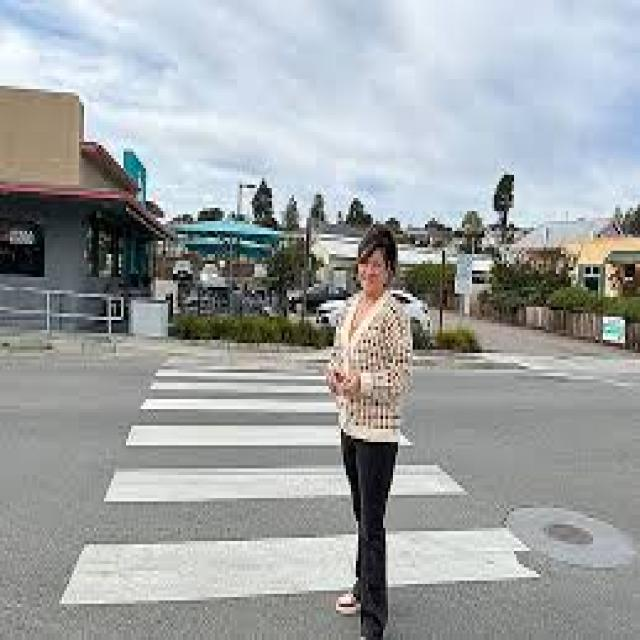Crosswalk: (60, 355, 534, 615)
